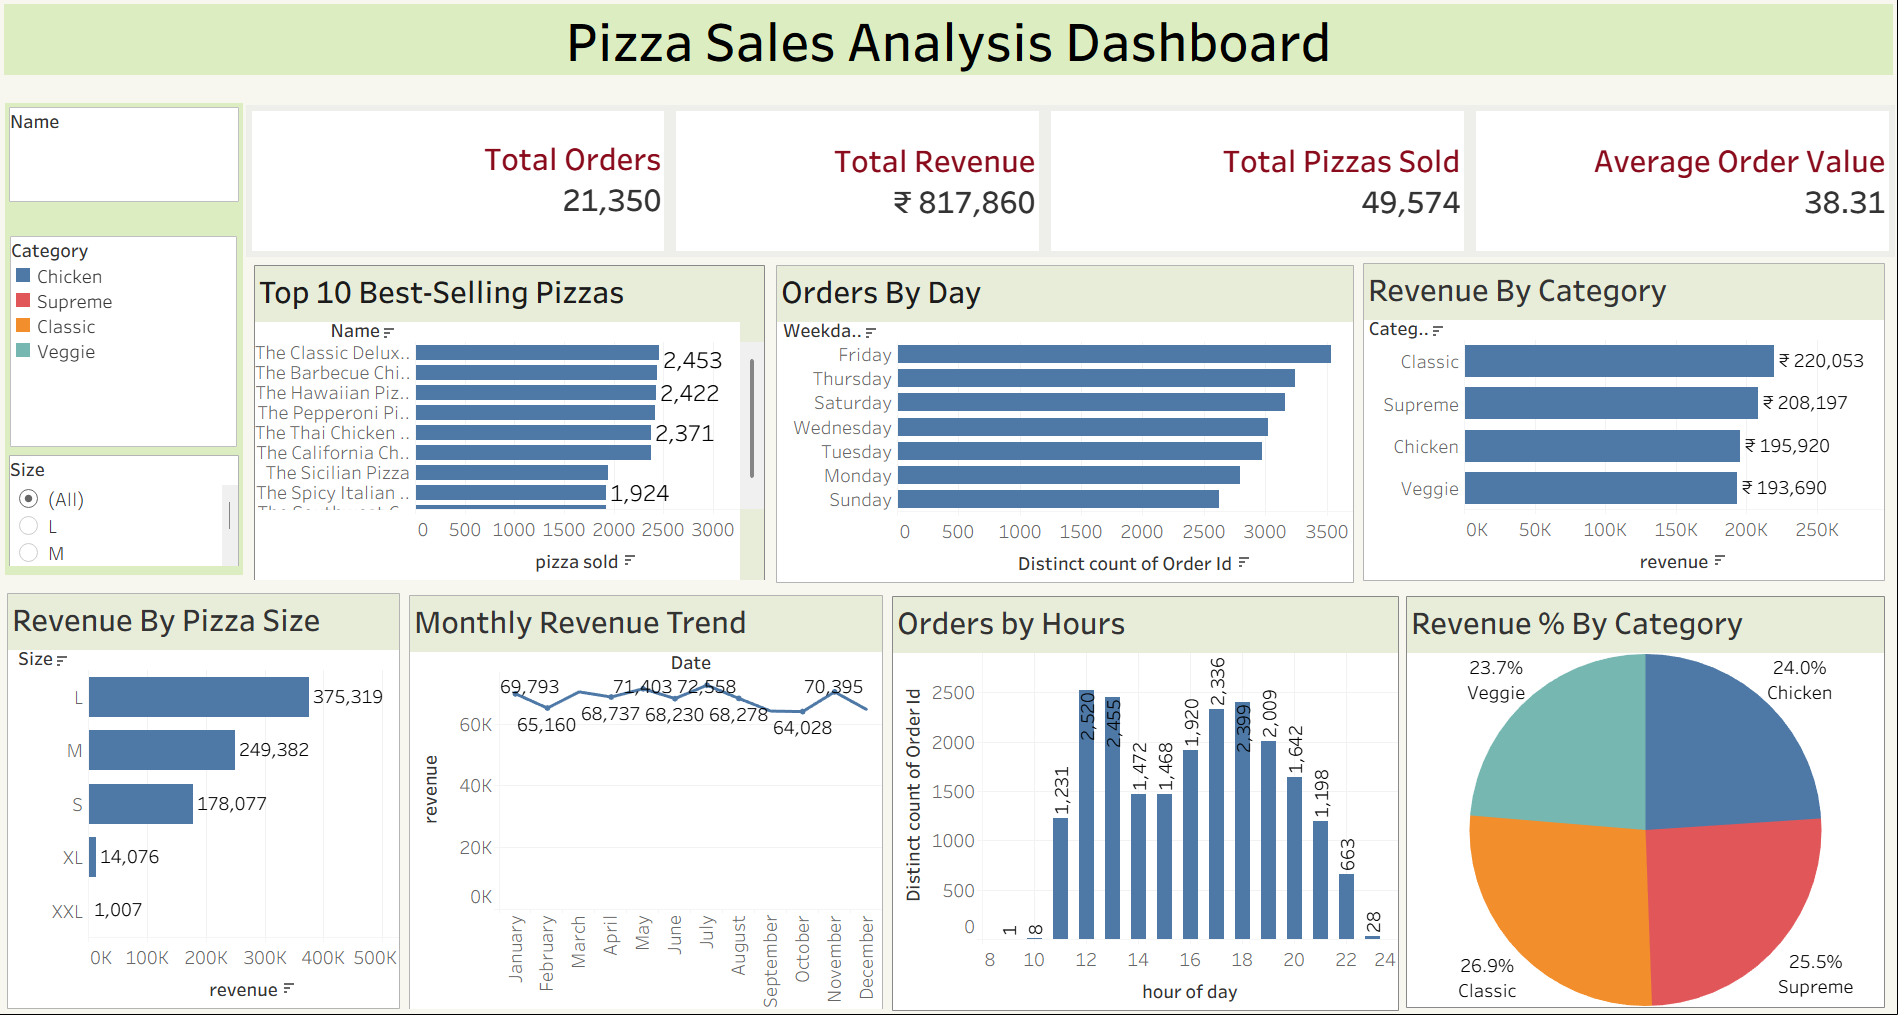

The page's visual inventory and layout, read from the dashboard file:
{"tool":"tableau","page":{"name":"Pizza Sales Analysis","canvas":[1000,1000],"units":"permille","ordinal":0},"visuals":[{"type":"title","box":[4,0,987.6,98]},{"type":"filter","title":"top 10 best selling pizzas","param":"[federated.0l4tz6d051pw6219p1qsc14ryjxp].[none:name:nk]","box":[6.7,100.5,123.7,127.8]},{"type":"worksheet","title":"total orders","mark":"Text","box":[131.6,101.7,208.3,146.4]},{"type":"worksheet","title":"total revenue","mark":"Automatic","box":[339.9,101.7,233.8,146.4]},{"type":"worksheet","title":"total pizzas sold","mark":"Automatic","box":[573.7,101.7,208.3,146.4]},{"type":"worksheet","title":"average order value","mark":"Automatic","box":[782,101.7,208.3,146.4]},{"type":"legend","title":"Revenue % by category","param":"[federated.0l4tz6d051pw6219p1qsc14ryjxp].[none:category:nk]","box":[9.1,228.3,118.3,203.5]},{"type":"worksheet","title":"Revenue by category","mark":"Automatic","rows":["category"],"cols":["Calculation_1172651369664512"],"box":[713.6,254.3,271.8,307.7]},{"type":"worksheet","title":"top 10 best selling pizzas","mark":"Bar","rows":["name"],"cols":["quantity"],"box":[135.9,255.6,266.4,305.2]},{"type":"worksheet","title":"Orders By Day","mark":"Automatic","rows":["date"],"cols":["order_id"],"box":[407.8,255.6,301,307.7]},{"type":"filter","title":"Revenue By Pizza Size","param":"[federated.0l4tz6d051pw6219p1qsc14ryjxp].[none:size:nk]","box":[8.5,439.2,119.5,107.9]},{"type":"blank","box":[7.2,565.8,984.4,424.3]},{"type":"worksheet","title":"Revenue By Pizza Size","mark":"Automatic","rows":["size"],"cols":["Calculation_1172651369664512"],"box":[7.3,573.2,204.5,402]},{"type":"worksheet","title":"Monthly Revenue Trend","mark":"Line","rows":["Calculation_1172651369664512"],"cols":["date"],"box":[216.6,574.4,247,400.7]},{"type":"worksheet","title":"Orders By Hour","mark":"Bar","rows":["order_id"],"cols":["Calculation_1172651370622979"],"box":[468.4,575.7,264,400.7]},{"type":"worksheet","title":"Revenue % by category","mark":"Pie","box":[736,575.7,249.4,398.3]}]}

Visuals, with their boxes on the dashboard's canvas, which has no fixed pixel size, in thousandths of its width and height (x1, y1, x2, y2). These are canvas units, not pixel positions in the 1902x1018 screenshot, which may show the page scaled, cropped or inside an application window:
title: crop(4, 0, 992, 98)
"top 10 best selling pizzas" filter: crop(7, 100, 130, 228)
"total orders" worksheet (Text marks): crop(132, 102, 340, 248)
"total revenue" worksheet: crop(340, 102, 574, 248)
"total pizzas sold" worksheet: crop(574, 102, 782, 248)
"average order value" worksheet: crop(782, 102, 990, 248)
"Revenue % by category" legend: crop(9, 228, 127, 432)
"Revenue by category" worksheet: crop(714, 254, 985, 562)
"top 10 best selling pizzas" worksheet (Bar marks): crop(136, 256, 402, 561)
"Orders By Day" worksheet: crop(408, 256, 709, 563)
"Revenue By Pizza Size" filter: crop(8, 439, 128, 547)
blank: crop(7, 566, 992, 990)
"Revenue By Pizza Size" worksheet: crop(7, 573, 212, 975)
"Monthly Revenue Trend" worksheet (Line marks): crop(217, 574, 464, 975)
"Orders By Hour" worksheet (Bar marks): crop(468, 576, 732, 976)
"Revenue % by category" worksheet (Pie marks): crop(736, 576, 985, 974)
